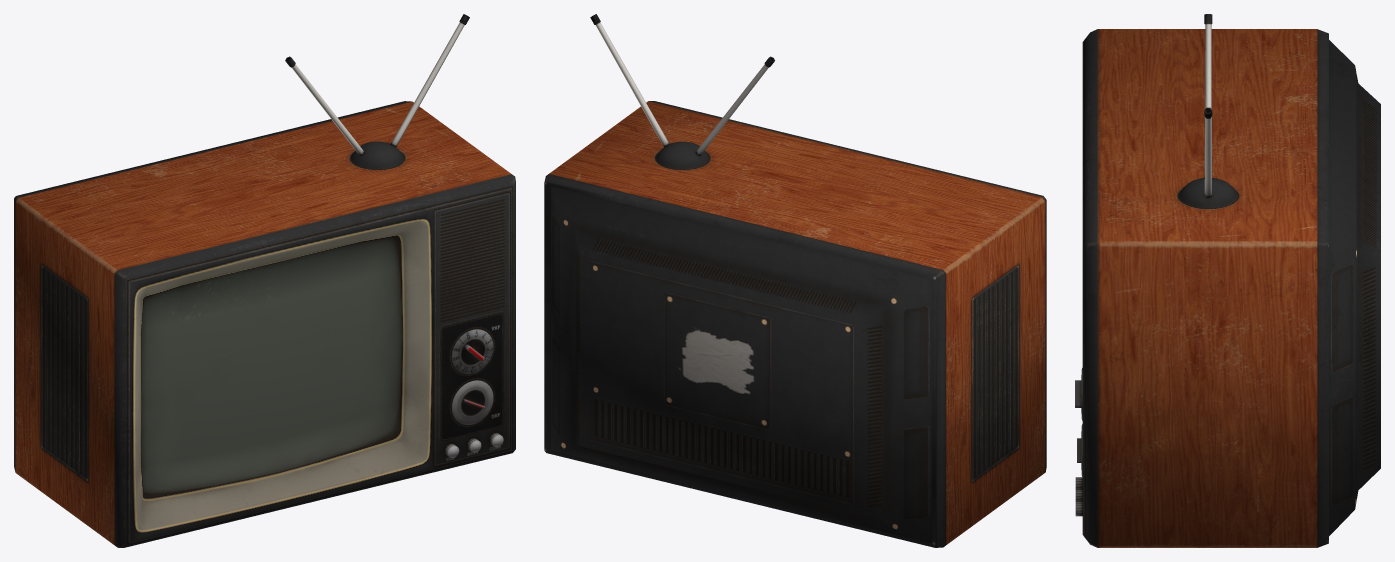
File: vintage_tv.glb
3 renders of one model, left to right at view 1: azimuth 30°, elevation 25°; view 2: azimuth 150°, elevation 25°; view 3: azimuth 270°, elevation 25°, orthographic. The views are drawn at different scales.
Visible parts, largest first — view 1: tv_low, h2_low, sign_low, top_low; view 2: tv-b_low, tv_low, sign_low, top_low; view 3: tv_low, tv-b_low, sign_low, top_low.
Boxes of the visible parts, x1,y1,x2,y2 form: tv_low: (14,101,515,547); h2_low: (452,329,493,424); sign_low: (285,14,469,155); top_low: (351,141,404,169); tv-b_low: (551,186,931,542); tv_low: (544,101,1046,547); sign_low: (590,14,774,155); top_low: (656,141,709,169); tv_low: (1082,29,1328,547); tv-b_low: (1329,40,1380,535); sign_low: (1204,14,1212,197); top_low: (1178,178,1237,208).
Size of the model in its own units: 3.63 by 3.43 by 2.15.
1 material, 1 textured.
